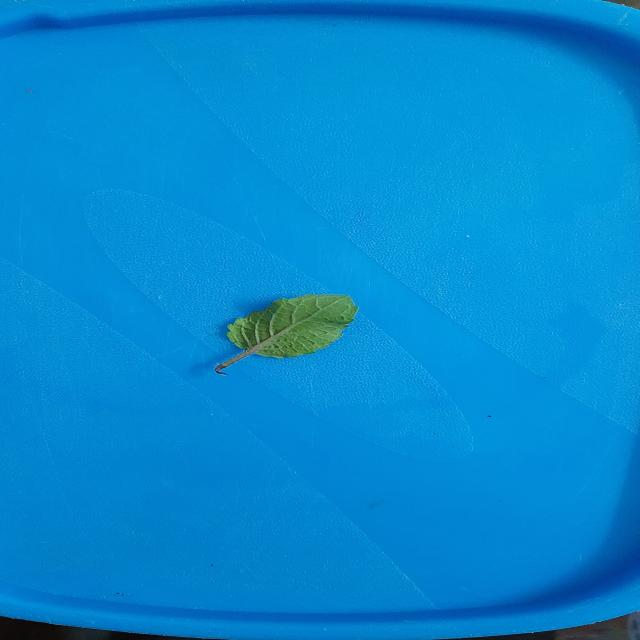tulsi: (214, 294, 358, 374)
